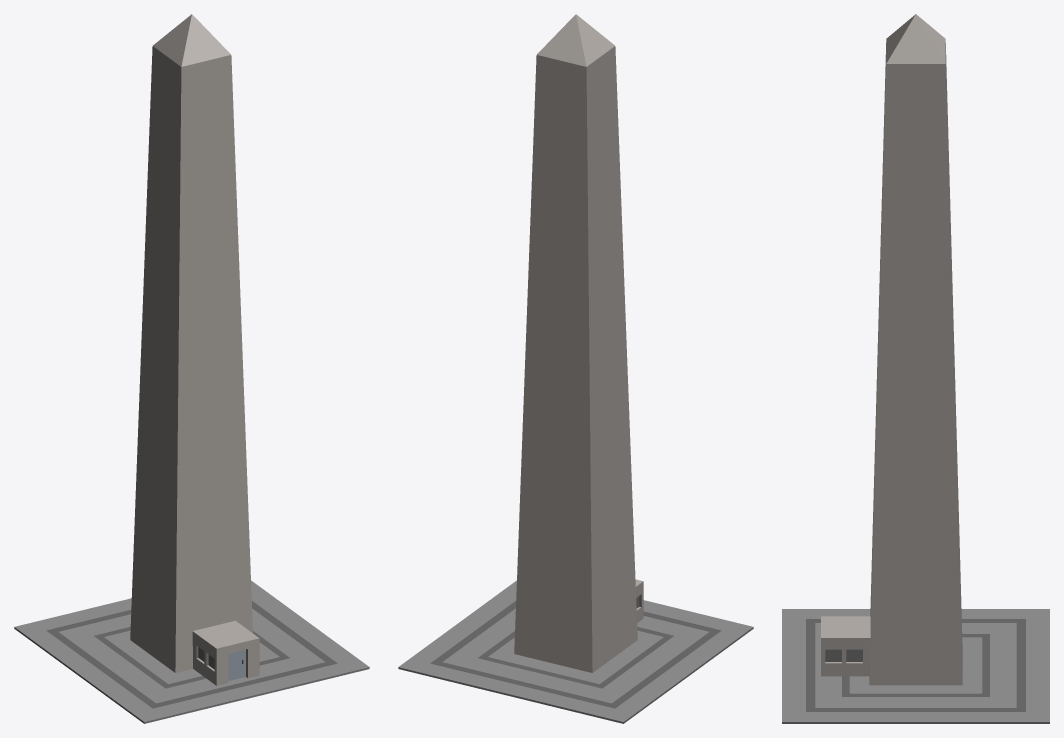
The model's file is WashingtonMonument.fbx.
3 renders of one model, left to right at view 1: azimuth 30°, elevation 25°; view 2: azimuth 150°, elevation 25°; view 3: azimuth 270°, elevation 25°, orthographic. The views are drawn at different scales.
Parts seen in each view (by area): view 1: WashingtonMonument; view 2: WashingtonMonument; view 3: WashingtonMonument.
Boxes of the visible parts, x1,y1,x2,y2 form: WashingtonMonument: (14, 14, 369, 723); WashingtonMonument: (398, 14, 753, 723); WashingtonMonument: (782, 14, 1049, 723).
Size of the model in its own units: 24.14 by 64.99 by 24.14.
